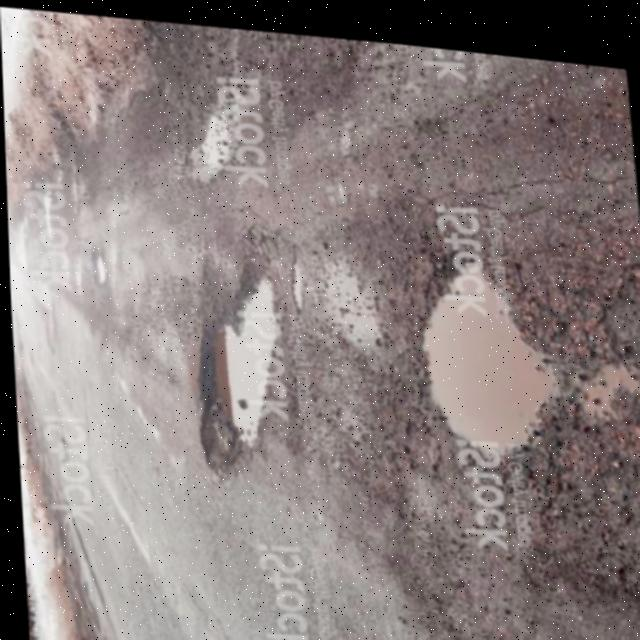Pothole: (388, 227, 569, 466), (169, 247, 310, 488)
